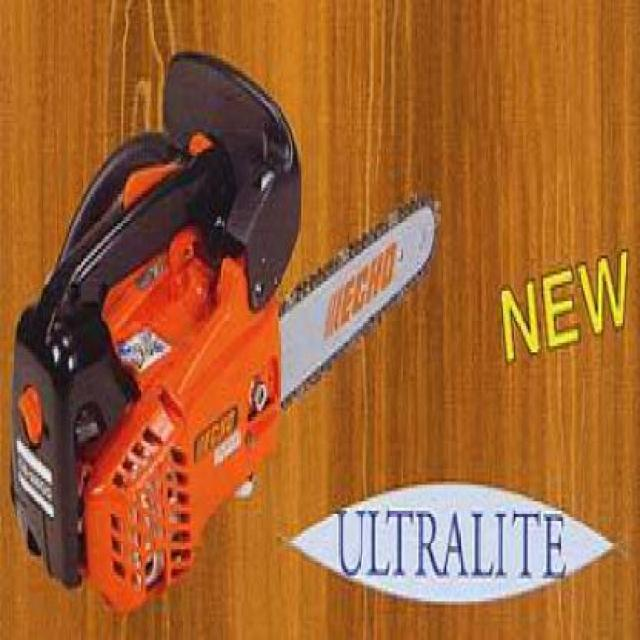Chainsaw: (3, 52, 445, 623)
